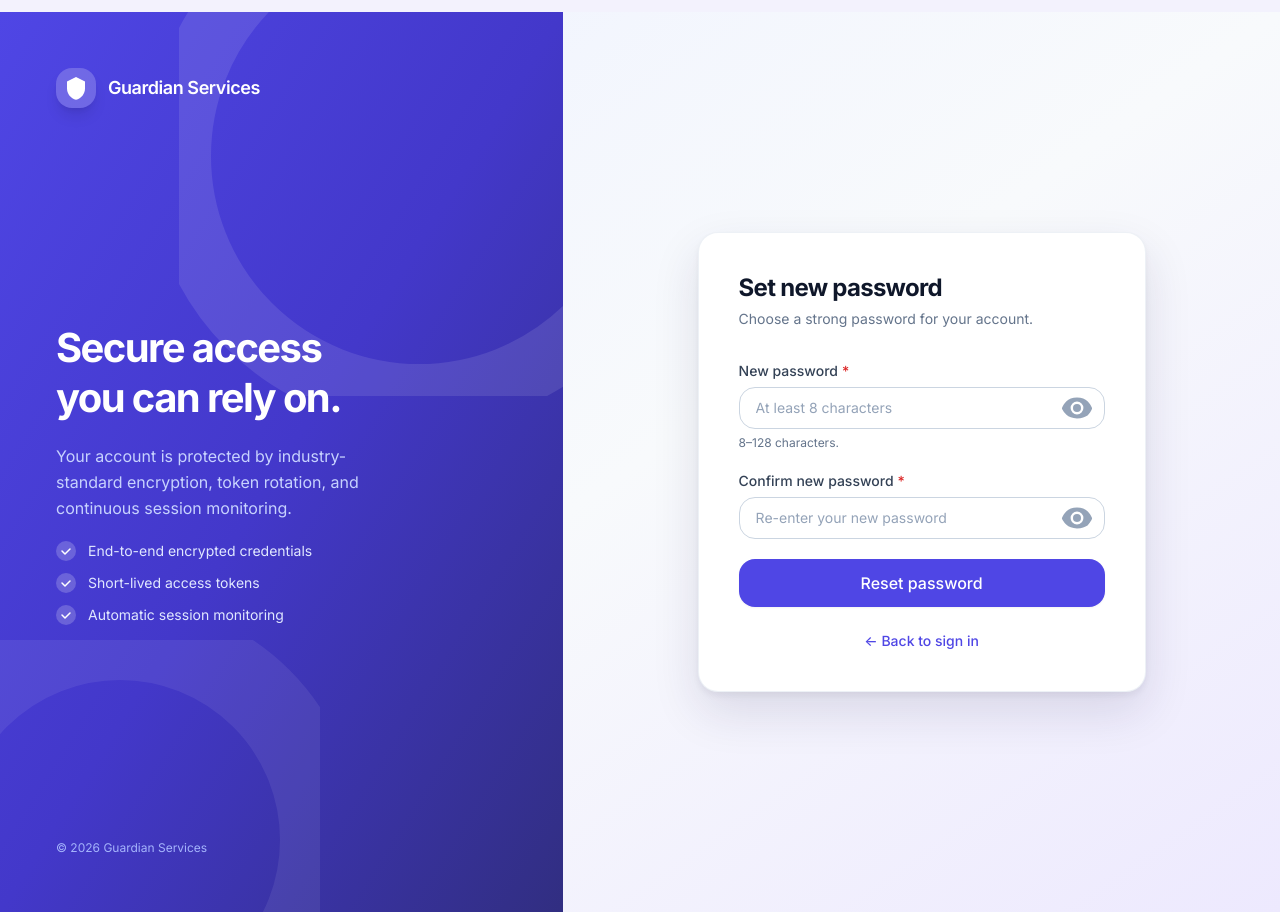
Scenario: ResetPasswordPage — valid token › shows success confirmation after a valid reset
Type "NewPassword1!" into the password field labelled "New password*". click: {"x": 922, "y": 408}
box: [739,387,1105,429]
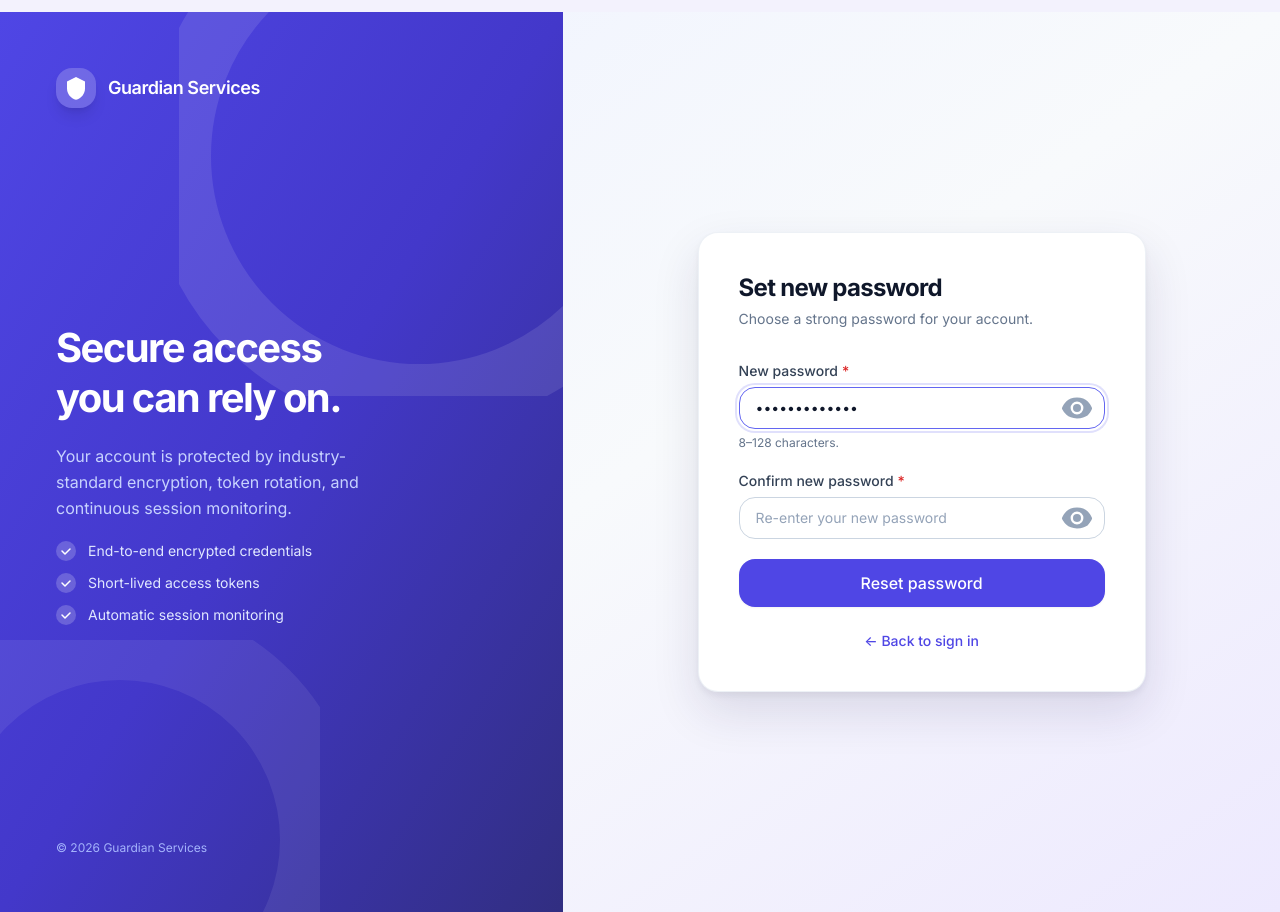
Type "NewPassword1!" into the password field labelled "Confirm new password*". click: {"x": 922, "y": 518}
box: [739,497,1105,539]
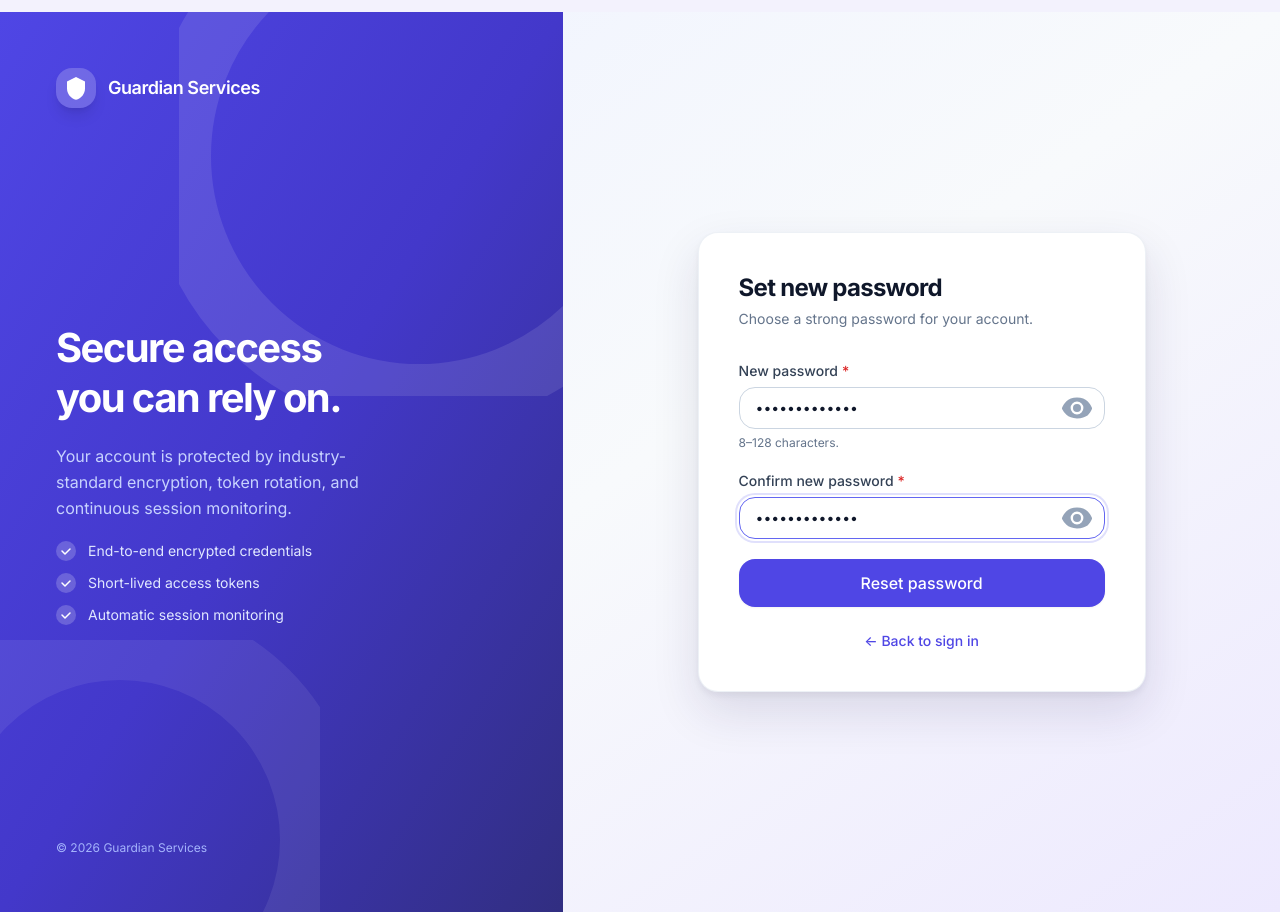
Click the button "Reset password". click: {"x": 922, "y": 583}
box: [739,559,1105,607]
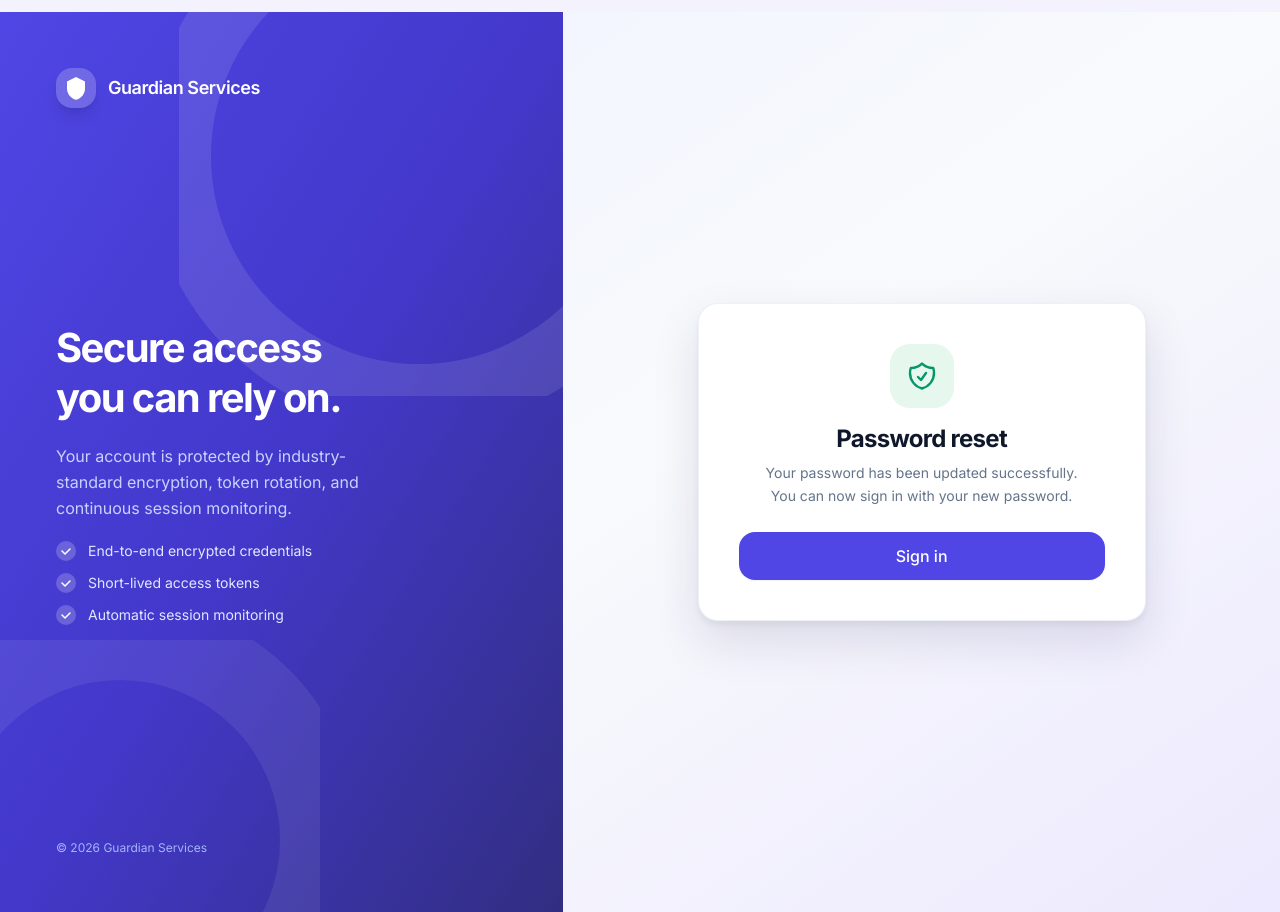
Expected: the heading "Password reset" is shown, [836,424,1007,454]
Expected: the link "Sign in" is shown, [739,546,1105,566]
